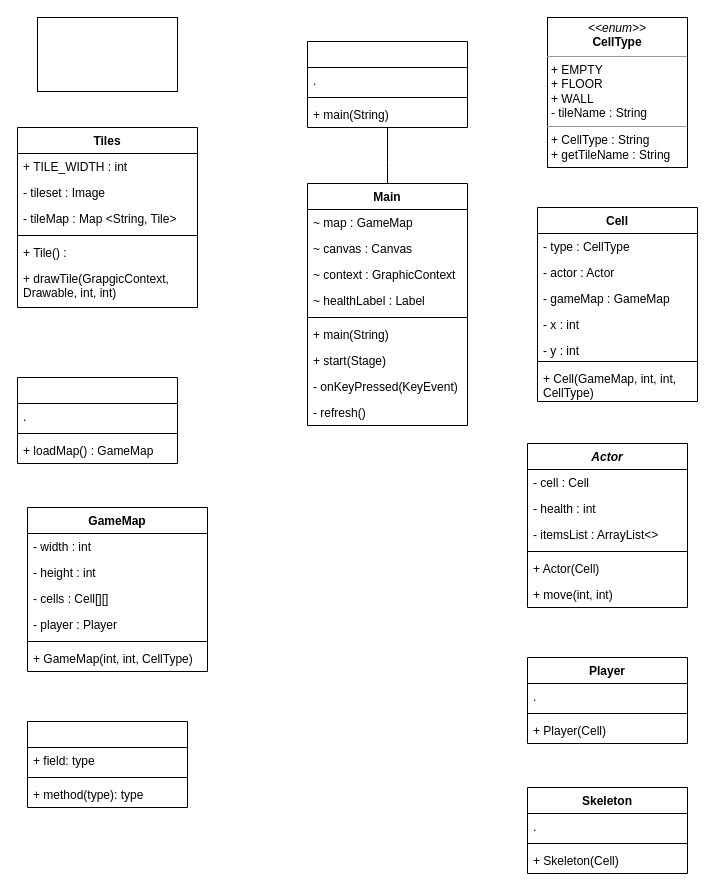
Image size: 715x894. Some labels were removed from this diagram. The shapes that lost their labels are listed below. From the top down, each one's box as (x1, y1, x2, y2) in pixels, then its label:
(36, 16, 178, 92): <<Interface>> Drawable + getTileName() : String
(306, 40, 468, 128): App
(16, 376, 178, 464): MapLoader
(26, 720, 188, 808): Items
